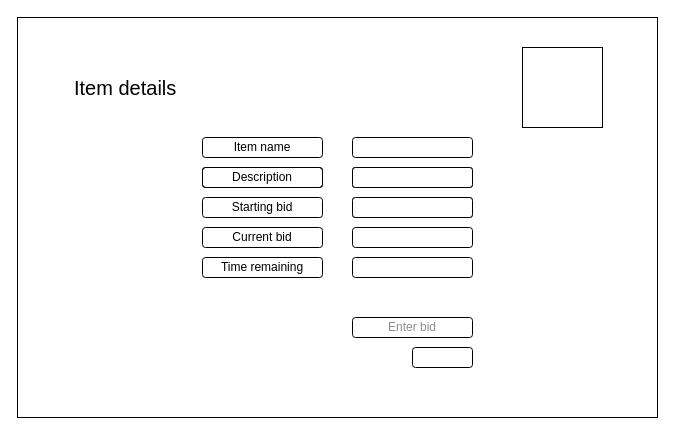
Some shapes in this 675 by 435 pixel diagram are drawn without their labels. Here are the shapes that lost their labels. From the top down, the centre of each, then its label:
At (x=562, y=87): "Upload Photo".
At (x=442, y=357): "Apply bid".
